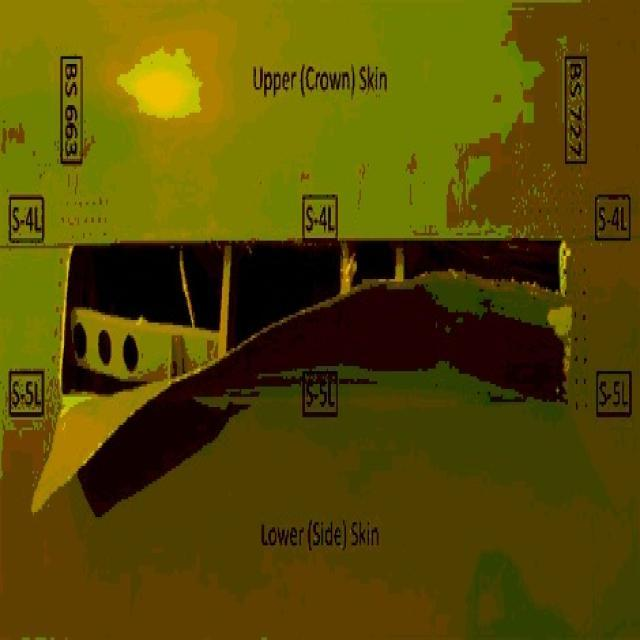crack: (30, 229, 575, 524)
